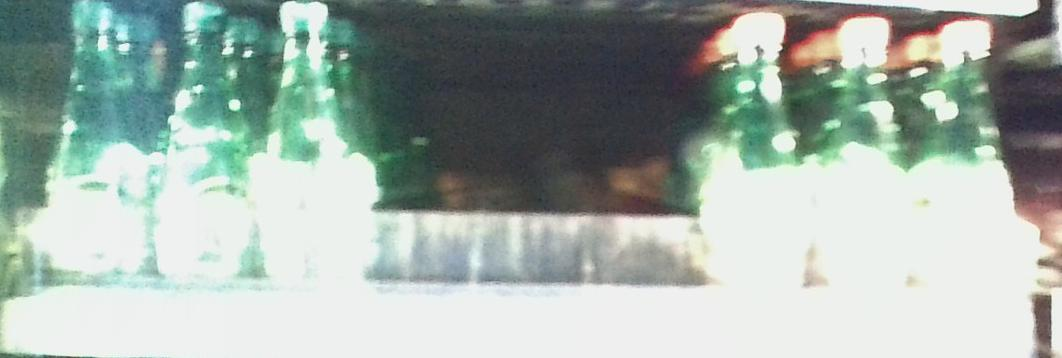bottle: (256, 4, 362, 303), (706, 13, 806, 309), (45, 3, 148, 290), (814, 12, 908, 314), (919, 15, 1009, 324), (155, 4, 246, 290)
